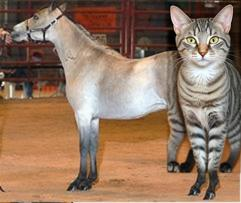cat: (167, 2, 241, 172)
horse: (11, 1, 229, 201)
